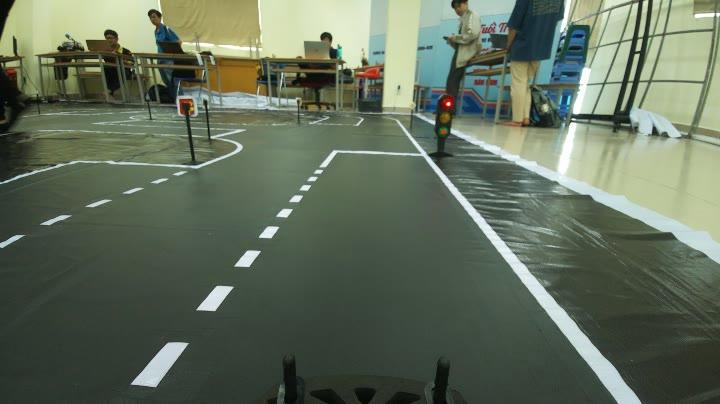trafficlight: (420, 91, 468, 169)
